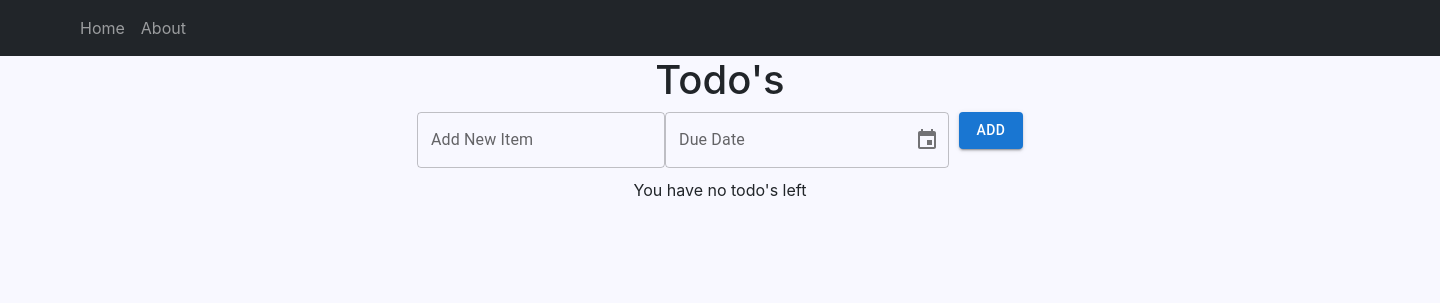
Test case: test that App component doesn't add a task without task name
This screenshot has width=1440, height=303.
Type "Dance" into the field labelled "Add New Item". click: (541,140)
box: x1=417 y1=112 x2=665 y2=168
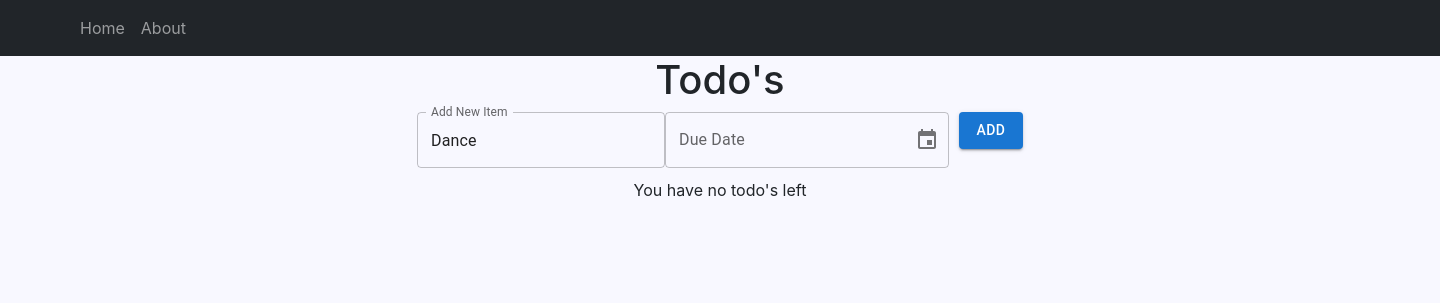
Type "06/24/2022" into the field with placeholder "mm/dd/yyyy". click: (782,140)
box: x1=665 y1=112 x2=899 y2=168
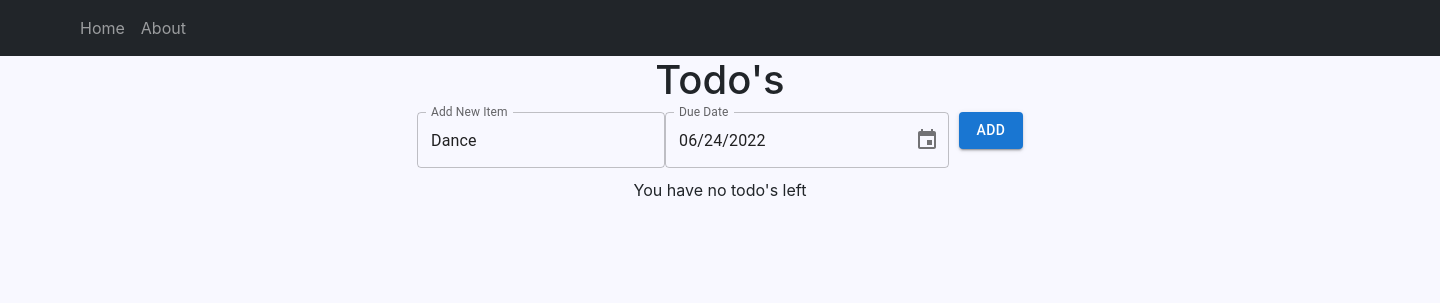
Click the button "Add". click: (991,130)
box: x1=959 y1=112 x2=1023 y2=148
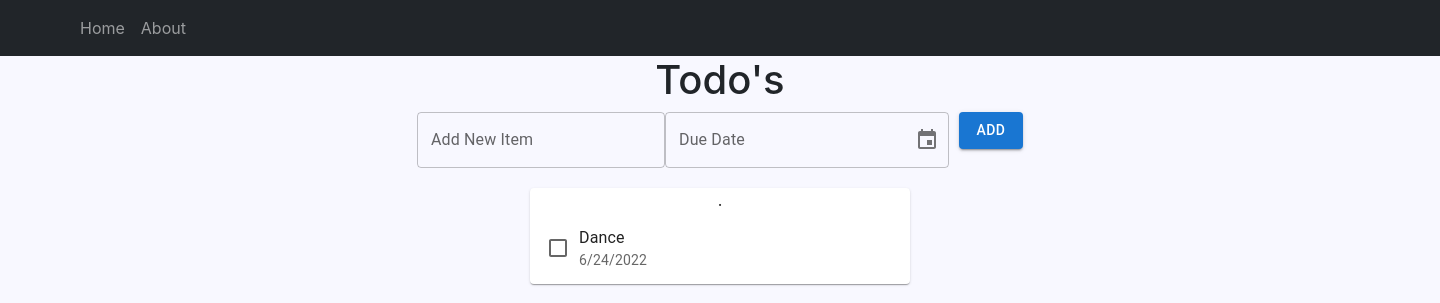
Now the text "Dance" is shown, box x1=579 y1=228 x2=625 y2=247
